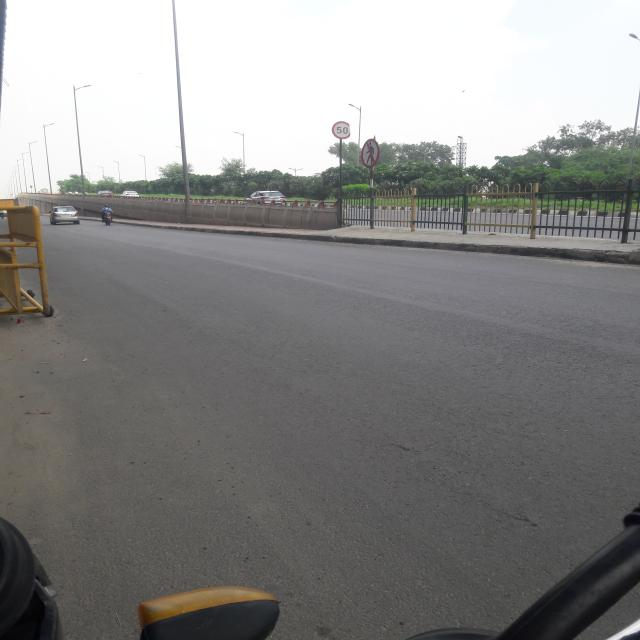PEDESTRIAN_PROHIBITED: (361, 138, 379, 169)
